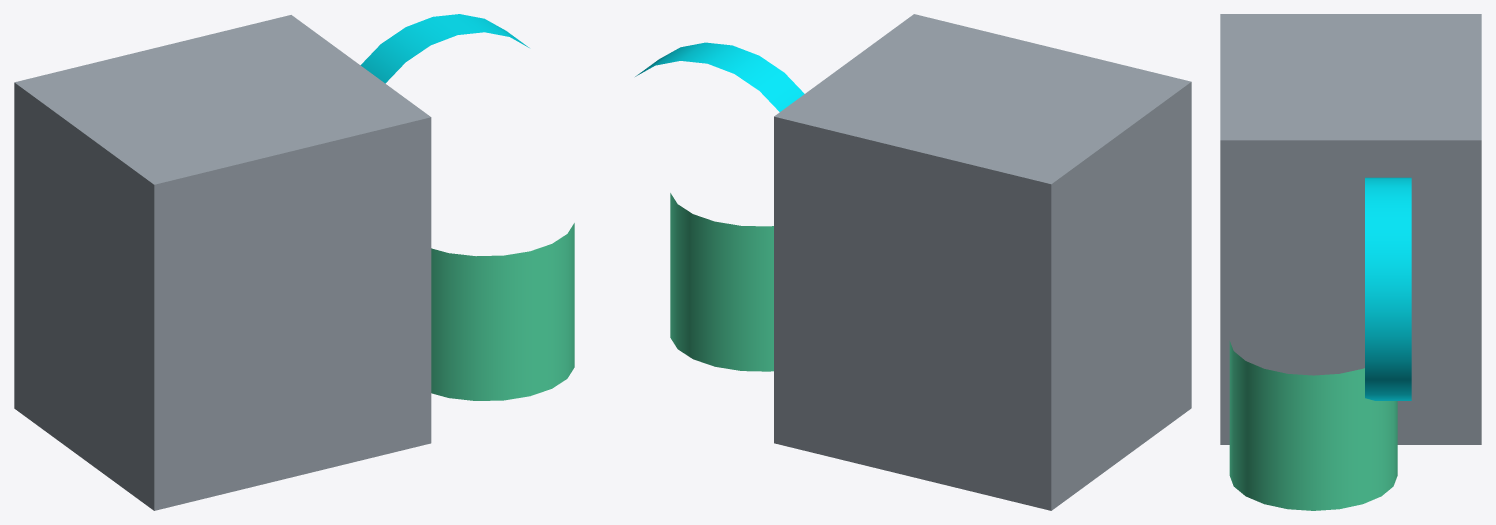
File: elements_mechanical_ee.glb
The picture shows the model from 3 angles, left to right: view 1: azimuth 30°, elevation 25°; view 2: azimuth 150°, elevation 25°; view 3: azimuth 270°, elevation 25°; orthographic projection. The views are drawn at different scales.
Parts seen in each view (by area): view 1: EngineCylinderBlock, RefrigerationCompressorDrum, SteamTurbineImpeller; view 2: EngineCylinderBlock, RefrigerationCompressorDrum, SteamTurbineImpeller; view 3: EngineCylinderBlock, RefrigerationCompressorDrum, SteamTurbineImpeller.
Boxes of the visible parts, bbox=[...] form: EngineCylinderBlock: bbox=[14, 15, 431, 510]; RefrigerationCompressorDrum: bbox=[431, 223, 574, 400]; SteamTurbineImpeller: bbox=[360, 14, 529, 83]; EngineCylinderBlock: bbox=[774, 14, 1191, 510]; RefrigerationCompressorDrum: bbox=[670, 193, 773, 371]; SteamTurbineImpeller: bbox=[635, 42, 804, 111]; EngineCylinderBlock: bbox=[1220, 14, 1481, 444]; RefrigerationCompressorDrum: bbox=[1229, 341, 1397, 510]; SteamTurbineImpeller: bbox=[1365, 177, 1411, 400].
Bounding box in the file's own units: 2.8 × 1.8 × 1.4.
